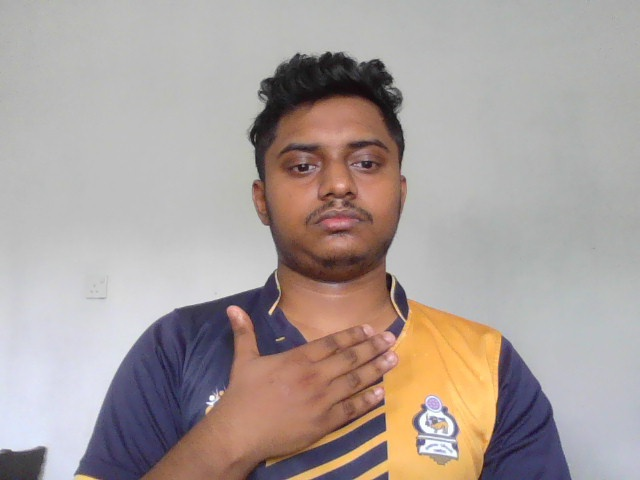Please: (226, 302, 397, 440)
